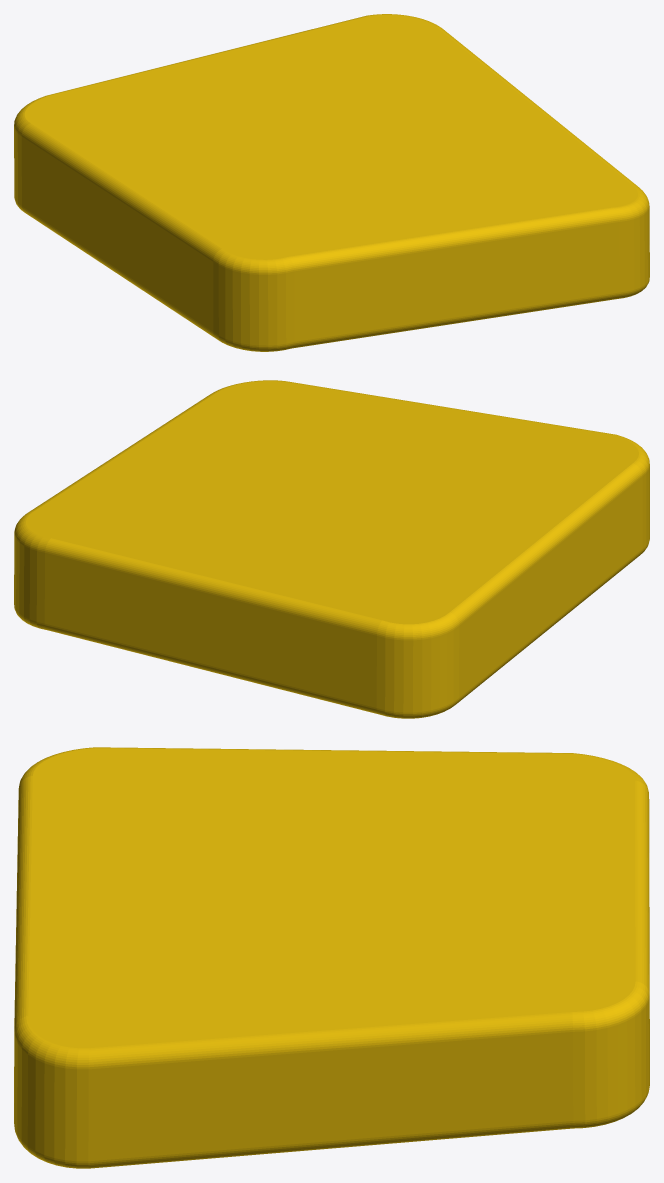
File: Butter.fbx
3 renders of one model, top to bottom at view 1: azimuth 30°, elevation 25°; view 2: azimuth 150°, elevation 25°; view 3: azimuth 270°, elevation 25°, orthographic. The views are drawn at different scales.
Parts seen in each view (by area): view 1: Cube; view 2: Cube; view 3: Cube.
Part boxes in pixels (<box>): Cube: <box>14,14,649,351</box>; Cube: <box>14,380,649,718</box>; Cube: <box>14,747,649,1168</box>.
Bounding box in the file's own units: 2.05 × 0.5621 × 2.01.
